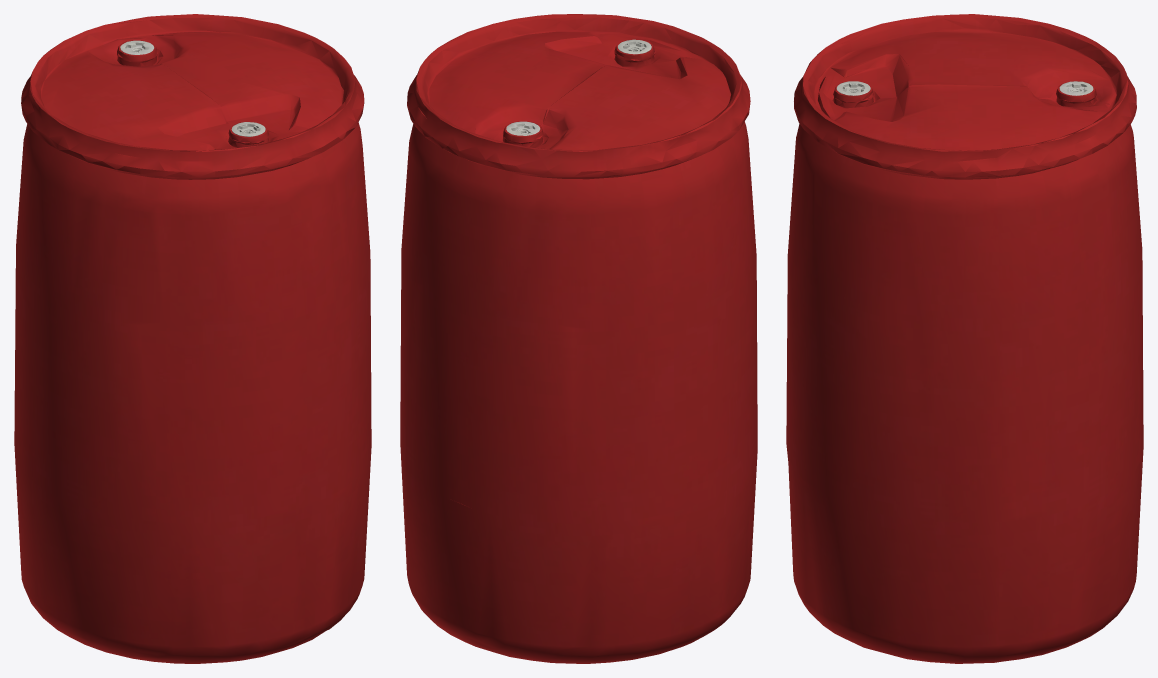
The model's file is plasticdrum_b01.glb.
The picture shows the model from 3 angles, left to right: view 1: azimuth 30°, elevation 25°; view 2: azimuth 150°, elevation 25°; view 3: azimuth 270°, elevation 25°; orthographic projection.
Visible parts, largest first — view 1: root; view 2: root; view 3: root.
Boxes of the visible parts, <box> form: root: <box>14,14,371,663</box>; root: <box>400,14,757,663</box>; root: <box>786,14,1143,663</box>.
Bounding box in the file's own units: 0.5277 × 0.8526 × 0.5284.
2 materials, 2 textured.
